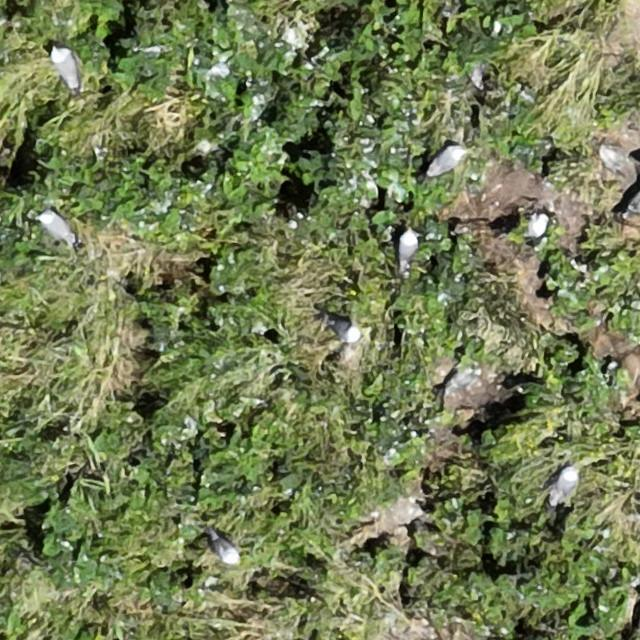umineko: (52, 48, 80, 89), (41, 213, 73, 244), (429, 148, 463, 175), (553, 468, 578, 502), (212, 535, 239, 565), (329, 320, 360, 343), (398, 232, 416, 266)
